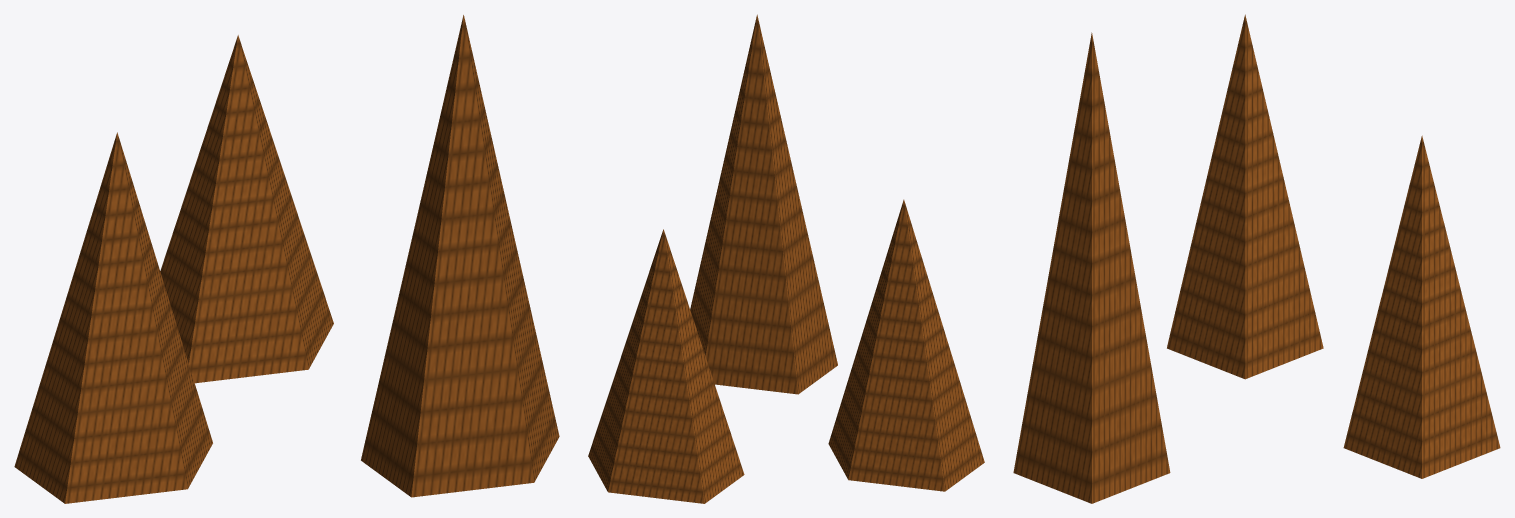
The model's file is fire.glb.
3 views of the same model, side by side, from view 1: azimuth 30°, elevation 25°; view 2: azimuth 150°, elevation 25°; view 3: azimuth 270°, elevation 25° (orthographic). The views are drawn at different scales.
Size of the model in its own units: 0.4128 by 0.4 by 0.4131.
Materials: 1 (1 with a texture image).
